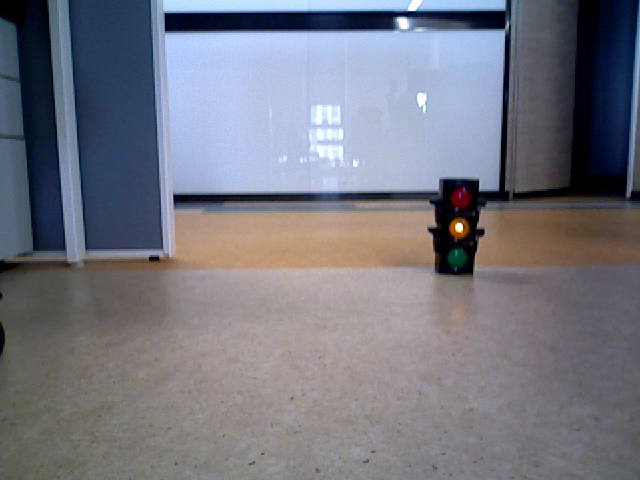yellow: (439, 180, 472, 273)
